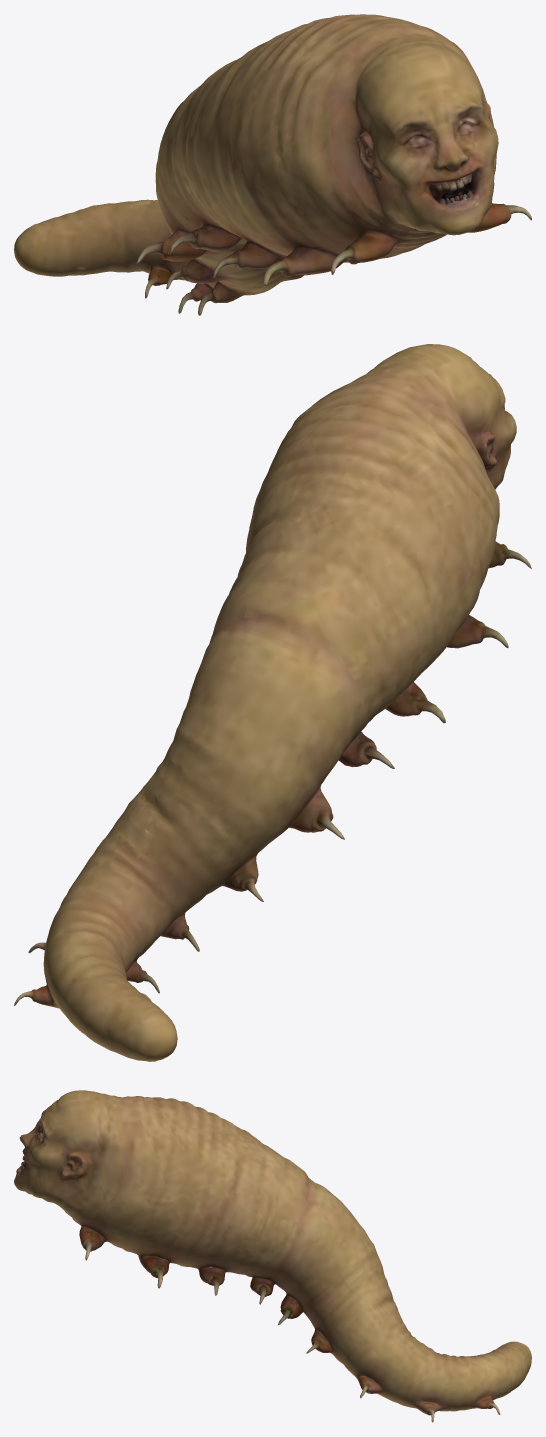
File: MZ4250 - Larvae_happy 2025.glb
3 renders of one model, top to bottom at view 1: azimuth 30°, elevation 25°; view 2: azimuth 150°, elevation 25°; view 3: azimuth 270°, elevation 25°, orthographic. The views are drawn at different scales.
Visible parts, largest first — view 1: ORGANIC BASE SPHERE.001; view 2: ORGANIC BASE SPHERE.001; view 3: ORGANIC BASE SPHERE.001.
Boxes of the visible parts, bbox=[...] form: ORGANIC BASE SPHERE.001: bbox=[14, 14, 531, 315]; ORGANIC BASE SPHERE.001: bbox=[14, 344, 531, 1061]; ORGANIC BASE SPHERE.001: bbox=[14, 1090, 531, 1422].
Bounding box in the file's own units: 27.84 × 48.06 × 75.86.
Materials: 1 (1 with a texture image).
